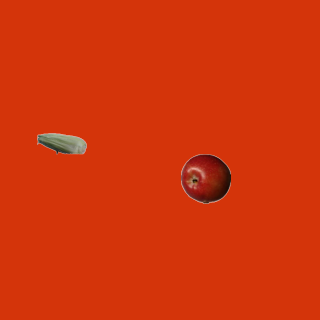Apple Braeburn: (180, 153, 230, 203)
Corn Husk: (36, 118, 86, 168)
